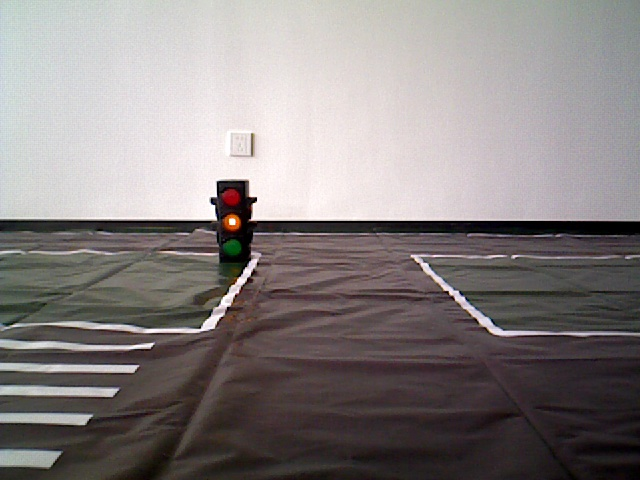yellow: (213, 181, 250, 272)
